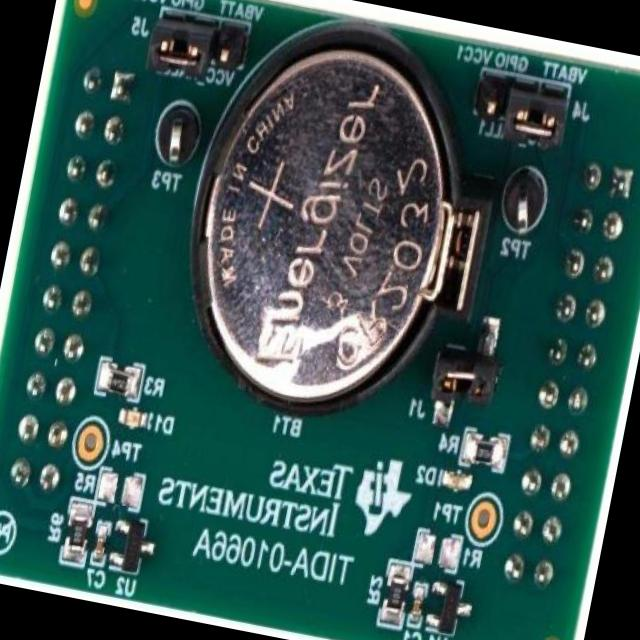LED: (442, 467, 468, 496), (117, 408, 143, 432)
capacitor: (85, 530, 106, 578), (408, 584, 428, 628)
connector: (466, 65, 574, 144), (146, 7, 238, 82), (426, 351, 494, 416)
resistor: (458, 438, 512, 474), (62, 508, 95, 560), (381, 572, 406, 625), (100, 361, 136, 397)
transistor: (105, 515, 158, 593), (421, 570, 474, 640)
